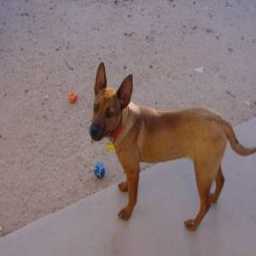dog: (88, 61, 231, 230)
